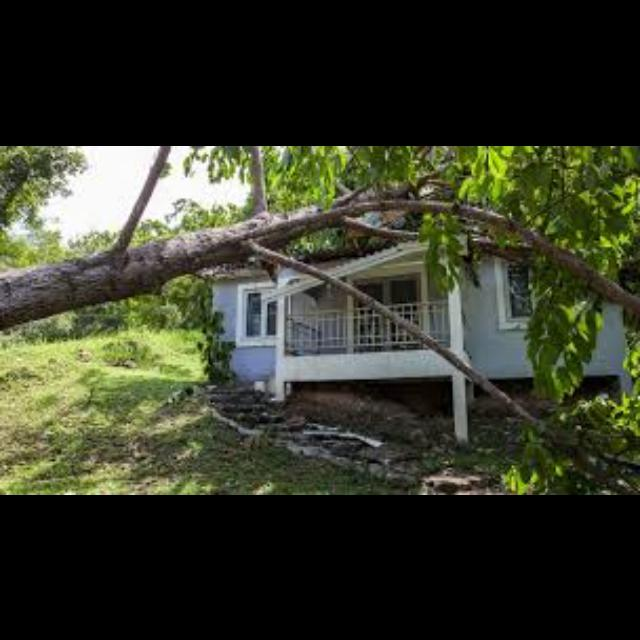Fallen Tree: (0, 196, 348, 334)
